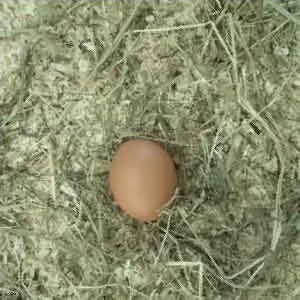egg: (109, 140, 177, 221)
